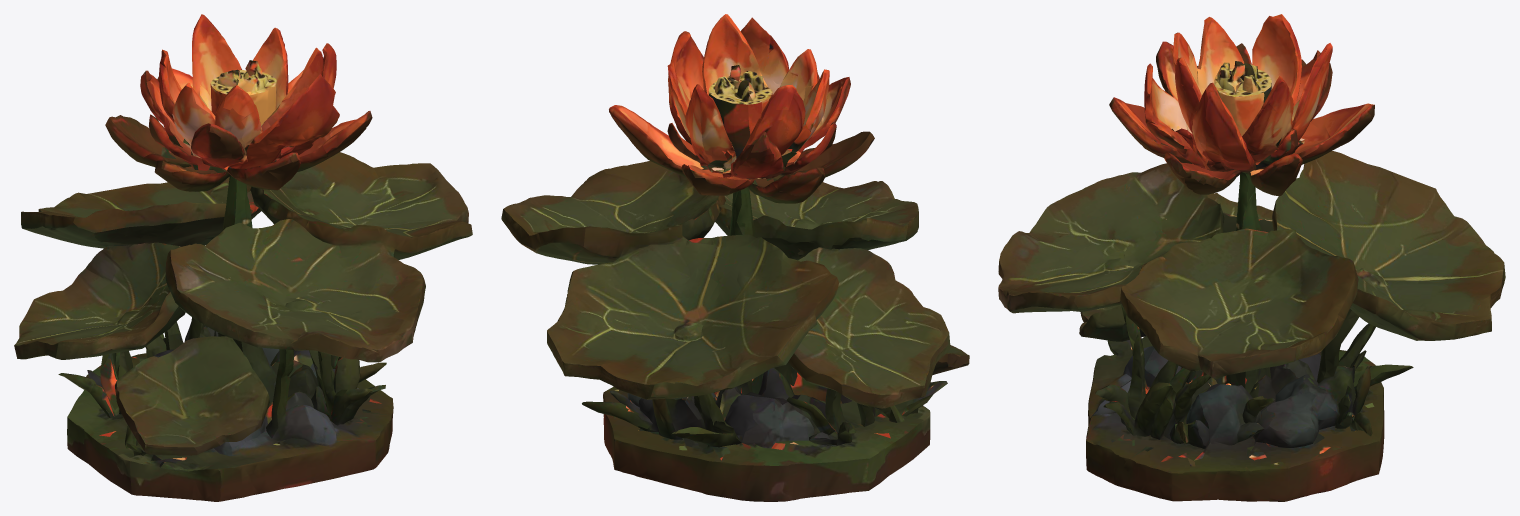
Rendered from fire_lotus_node.glb.
3 renders of one model, left to right at view 1: azimuth 30°, elevation 25°; view 2: azimuth 150°, elevation 25°; view 3: azimuth 270°, elevation 25°, orthographic. The views are drawn at different scales.
Visible parts, largest first — view 1: fire_lotus_node; view 2: fire_lotus_node; view 3: fire_lotus_node.
Boxes of the visible parts, box(x1,y1,x2,y2) form: fire_lotus_node: box(14, 14, 472, 501); fire_lotus_node: box(501, 14, 969, 501); fire_lotus_node: box(998, 14, 1505, 501).
Size of the model in its own units: 0.6 by 0.5325 by 0.5987.
1 material, 1 textured.
